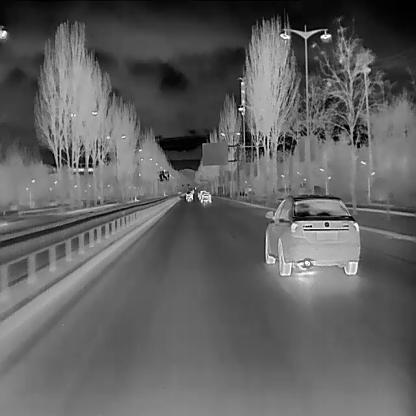car: (262, 189, 360, 275), (200, 190, 210, 202), (198, 188, 206, 200), (185, 191, 193, 200), (193, 186, 196, 189)
